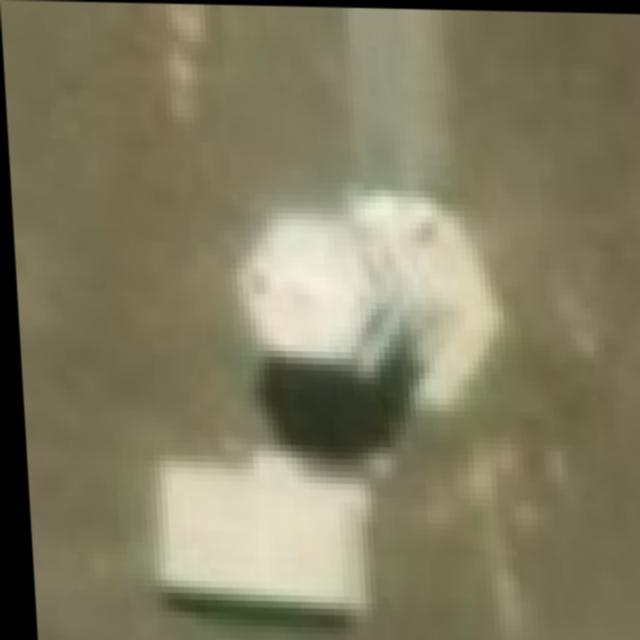Batiment: (234, 191, 496, 404), (151, 448, 364, 610)
